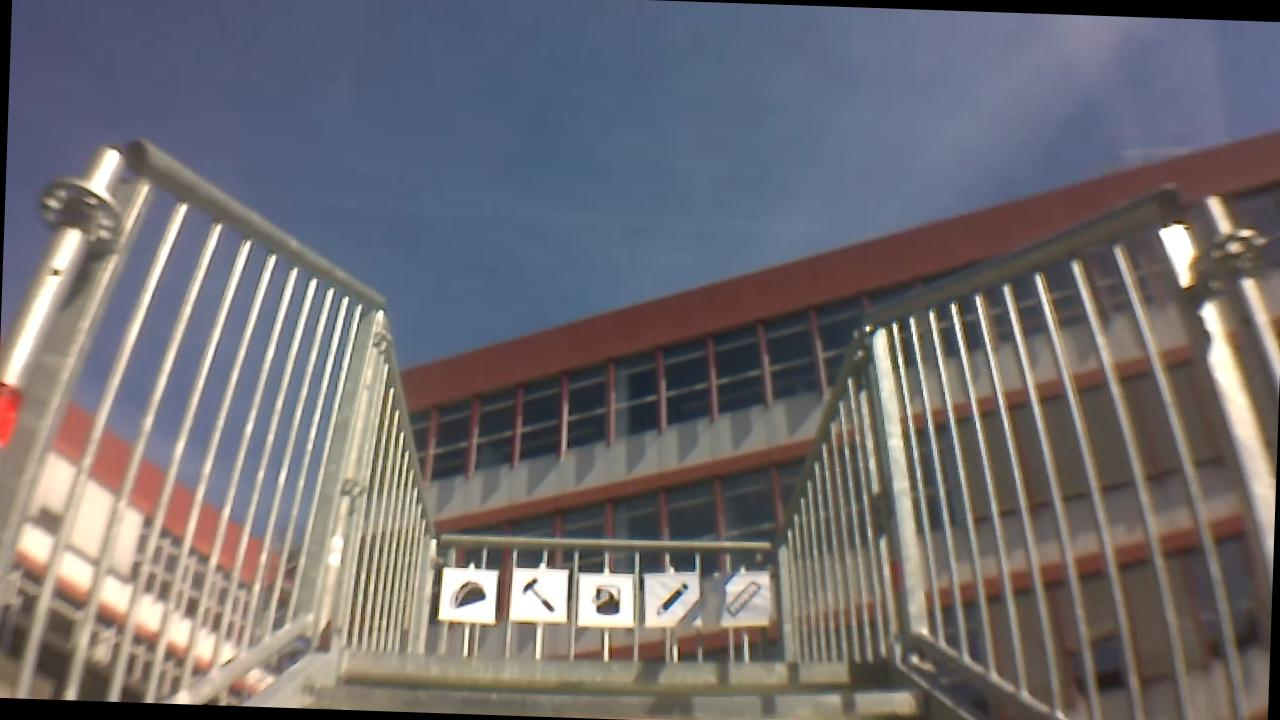bucket: (591, 585, 625, 615)
hammer: (518, 576, 559, 613)
pencil: (646, 579, 694, 620)
ruler: (713, 576, 760, 624)
taco: (445, 569, 484, 610)
